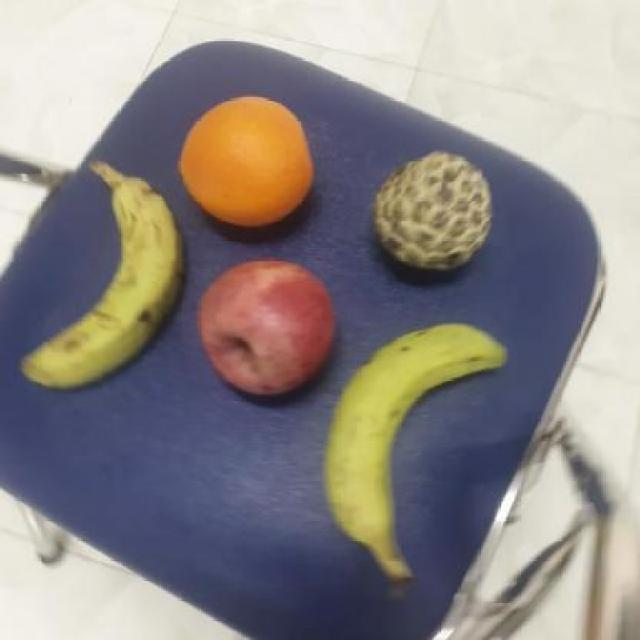apple: (192, 256, 336, 399)
banana: (326, 315, 508, 547), (14, 174, 186, 391)
oren: (178, 92, 319, 228)
sugar apple: (372, 149, 496, 273)
